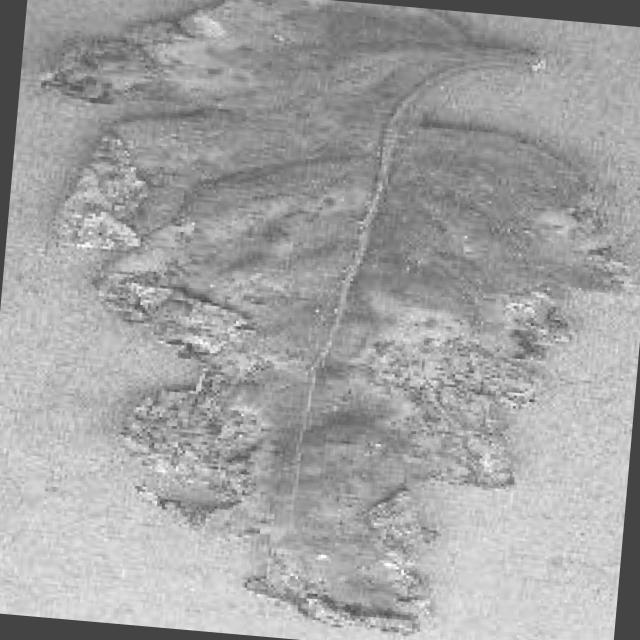bacterial spot: (33, 0, 640, 636)
